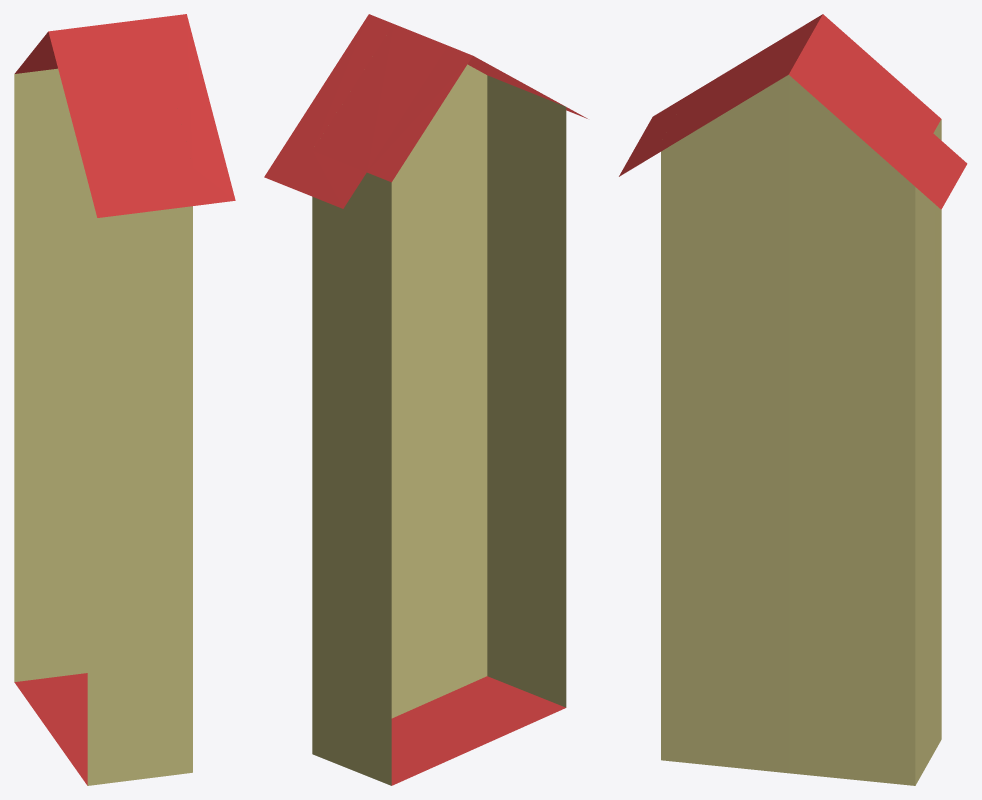
The picture shows the model from 3 angles, left to right: view 1: azimuth 30°, elevation 25°; view 2: azimuth 150°, elevation 25°; view 3: azimuth 270°, elevation 25°; orthographic projection. The views are drawn at different scales.
Bounding box in the file's own units: 3.14 × 4.96 × 11.2.
